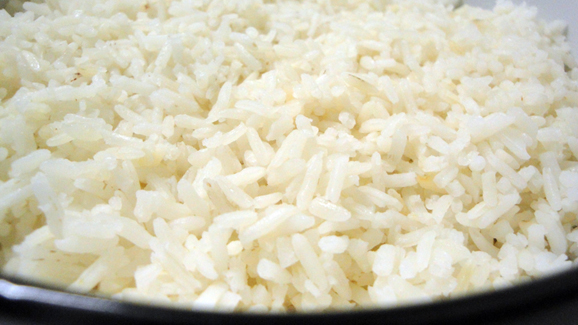plain rice: (59, 37, 510, 250)
